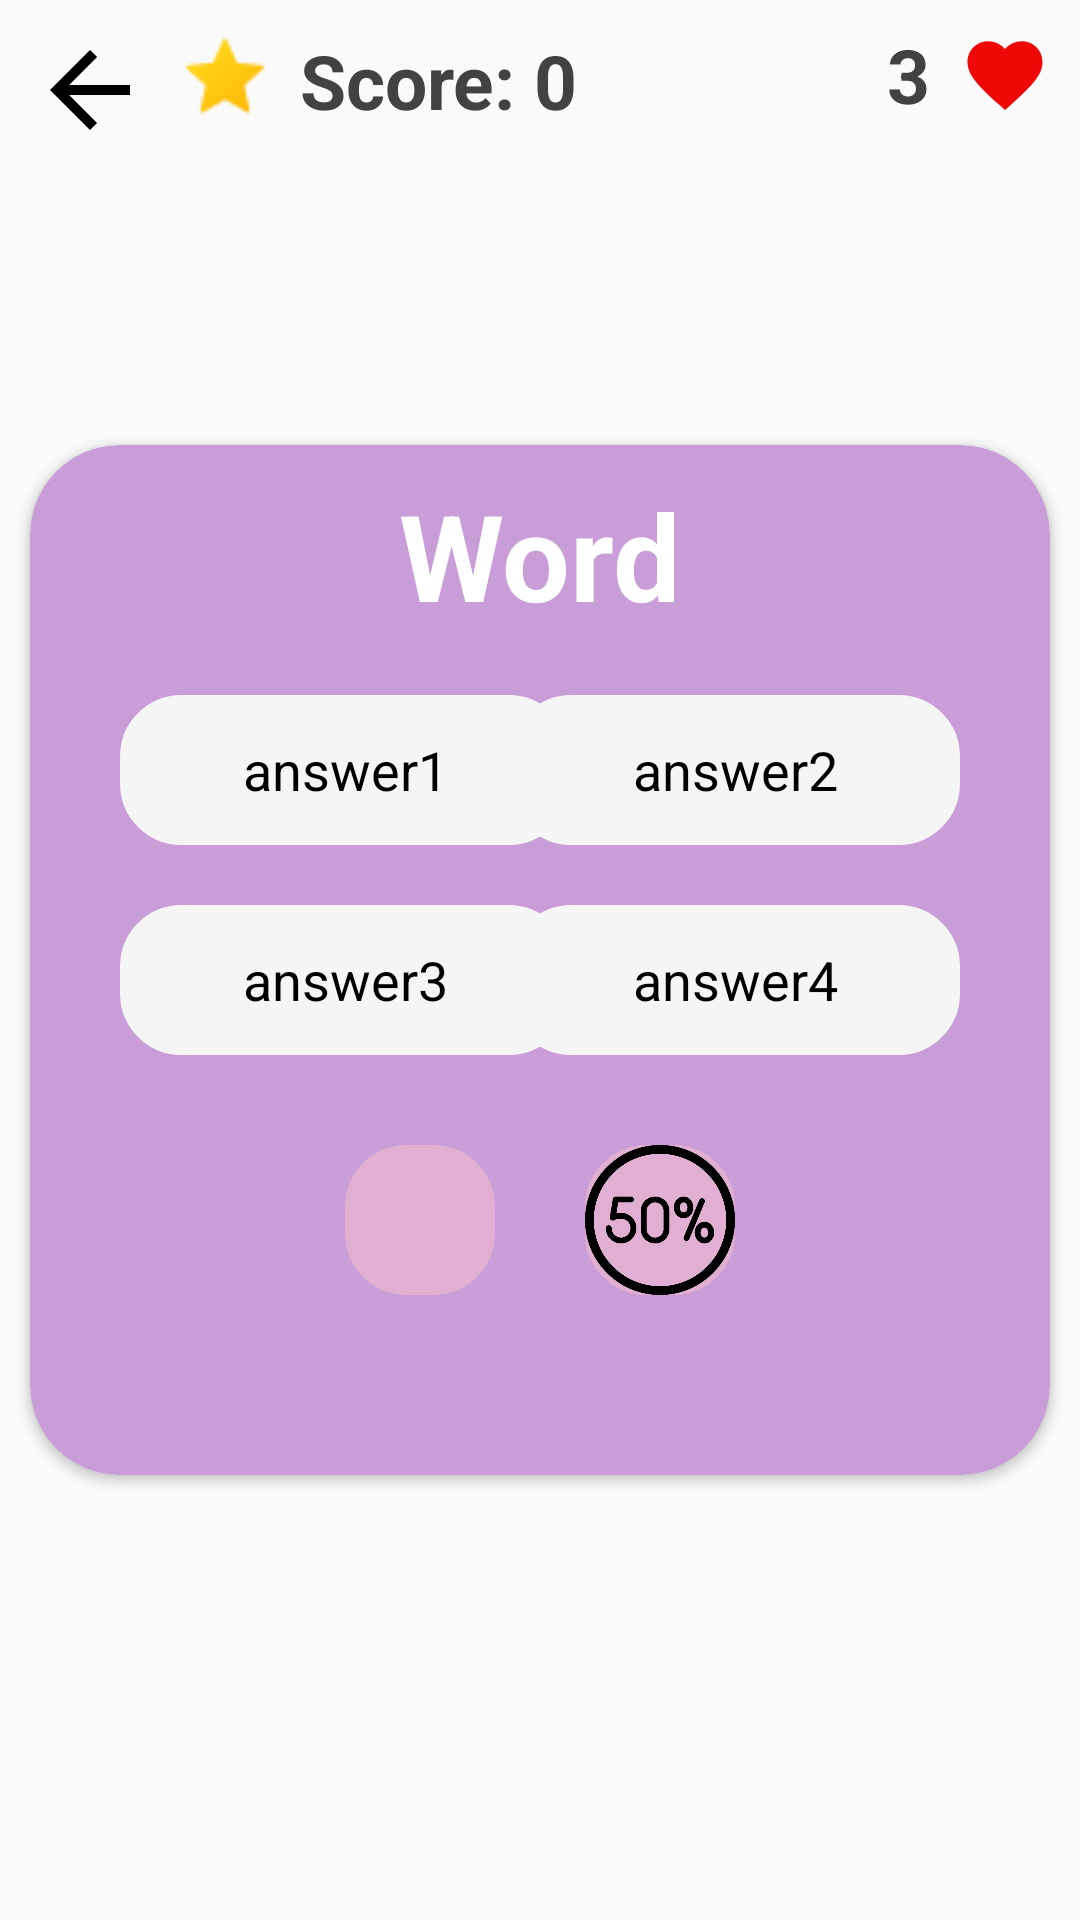

Locate icon controls on the screen. Image size 1080x1920, boxes as [x1,y1,x2,y2].
arrow back: [50,50,130,130]
favorite: [967,41,1043,110]
star: [185,38,265,115]
